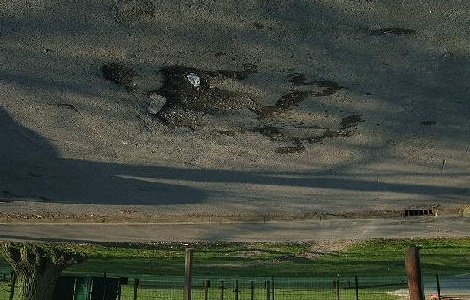pothole: (148, 63, 256, 135), (256, 91, 312, 121), (97, 61, 142, 90)
